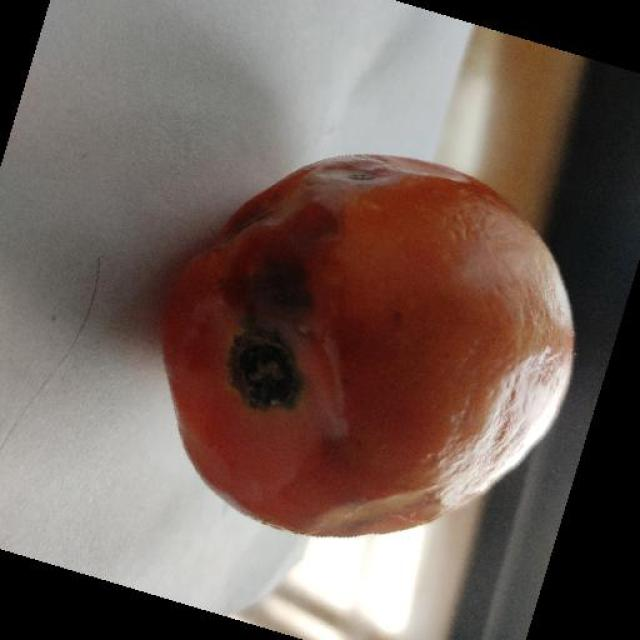Stale_tomato: (117, 156, 502, 488)
